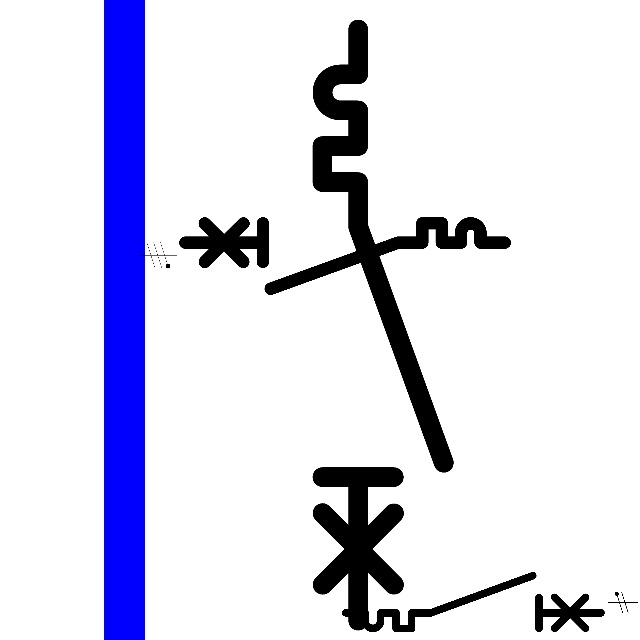interruptor_termomagnetico: (307, 14, 459, 635), (177, 215, 513, 297), (339, 569, 608, 635)
